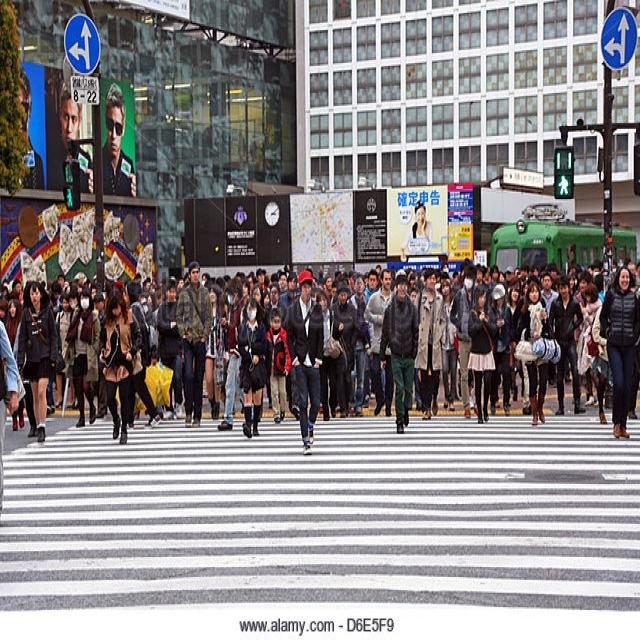body: (14, 61, 135, 198), (597, 263, 639, 441), (285, 268, 324, 457), (97, 288, 144, 444), (15, 280, 59, 442), (378, 273, 419, 434), (175, 259, 213, 430), (217, 276, 256, 432), (123, 278, 162, 430), (0, 316, 27, 527), (547, 274, 587, 416), (410, 266, 446, 421), (64, 285, 102, 428), (514, 279, 551, 425), (508, 281, 548, 415), (363, 268, 396, 420), (466, 281, 500, 424), (449, 262, 480, 418), (25, 288, 63, 415), (11, 285, 40, 439), (382, 278, 414, 417), (236, 295, 267, 438), (326, 282, 358, 418), (156, 274, 185, 419), (484, 282, 513, 415), (345, 271, 371, 418), (589, 286, 615, 426), (261, 308, 290, 424), (581, 281, 607, 408), (315, 290, 339, 422), (52, 292, 78, 411), (203, 282, 225, 421), (438, 278, 460, 412), (573, 269, 595, 397), (5, 298, 26, 431), (282, 286, 302, 414), (473, 258, 569, 284), (363, 268, 381, 402), (91, 290, 110, 416), (63, 291, 82, 411), (402, 199, 438, 259), (142, 272, 161, 362), (50, 269, 123, 292), (263, 281, 288, 328), (277, 270, 302, 316), (567, 258, 623, 276), (539, 272, 560, 319), (3, 299, 16, 354), (277, 271, 290, 325), (394, 262, 424, 285), (628, 365, 640, 418), (625, 255, 640, 296), (0, 275, 25, 299), (200, 269, 237, 284), (454, 336, 462, 401), (235, 268, 254, 295), (506, 285, 521, 319), (592, 272, 607, 304), (335, 266, 355, 290), (451, 256, 464, 292), (254, 266, 270, 294), (251, 285, 267, 313), (48, 285, 61, 311), (310, 266, 319, 301), (176, 272, 190, 294), (263, 275, 272, 308), (519, 280, 532, 300), (433, 264, 450, 279), (323, 274, 334, 296), (374, 262, 396, 273), (567, 274, 579, 294), (330, 279, 338, 308), (407, 286, 419, 305), (566, 240, 577, 260), (129, 269, 142, 282), (463, 256, 473, 269), (270, 269, 280, 282), (362, 270, 369, 284), (495, 394, 500, 408)
